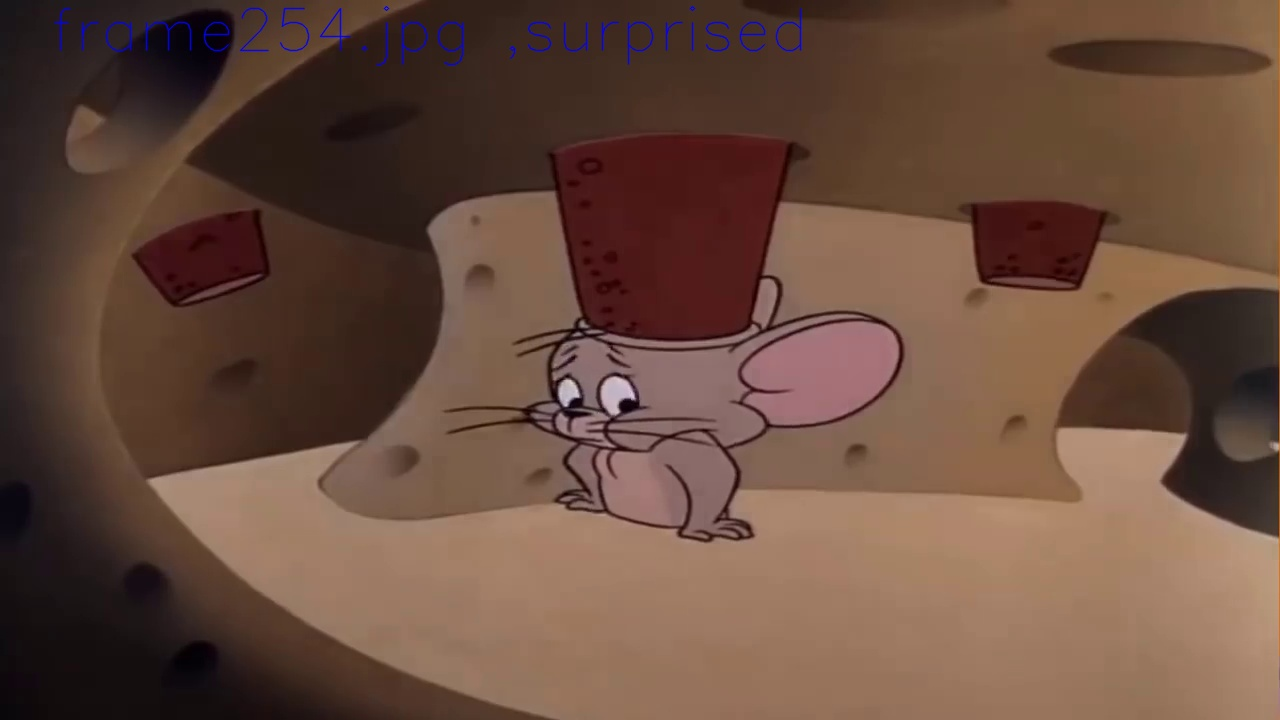sad: (550, 342, 646, 449)
